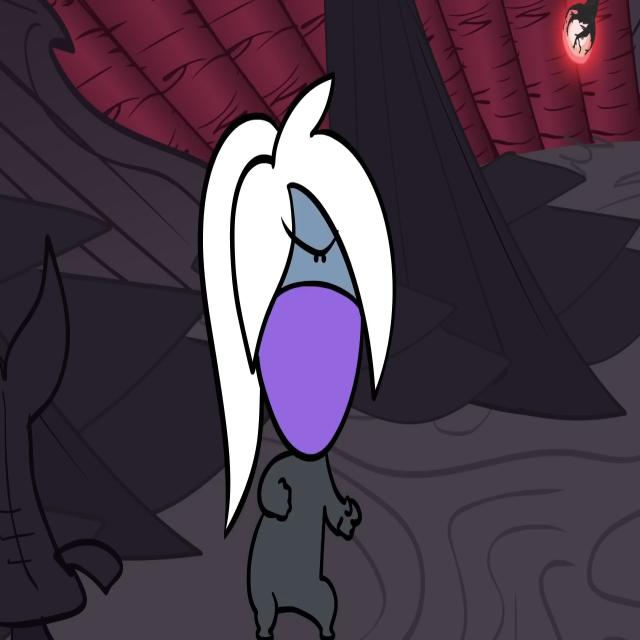miss Demeanor: (197, 70, 397, 640)
